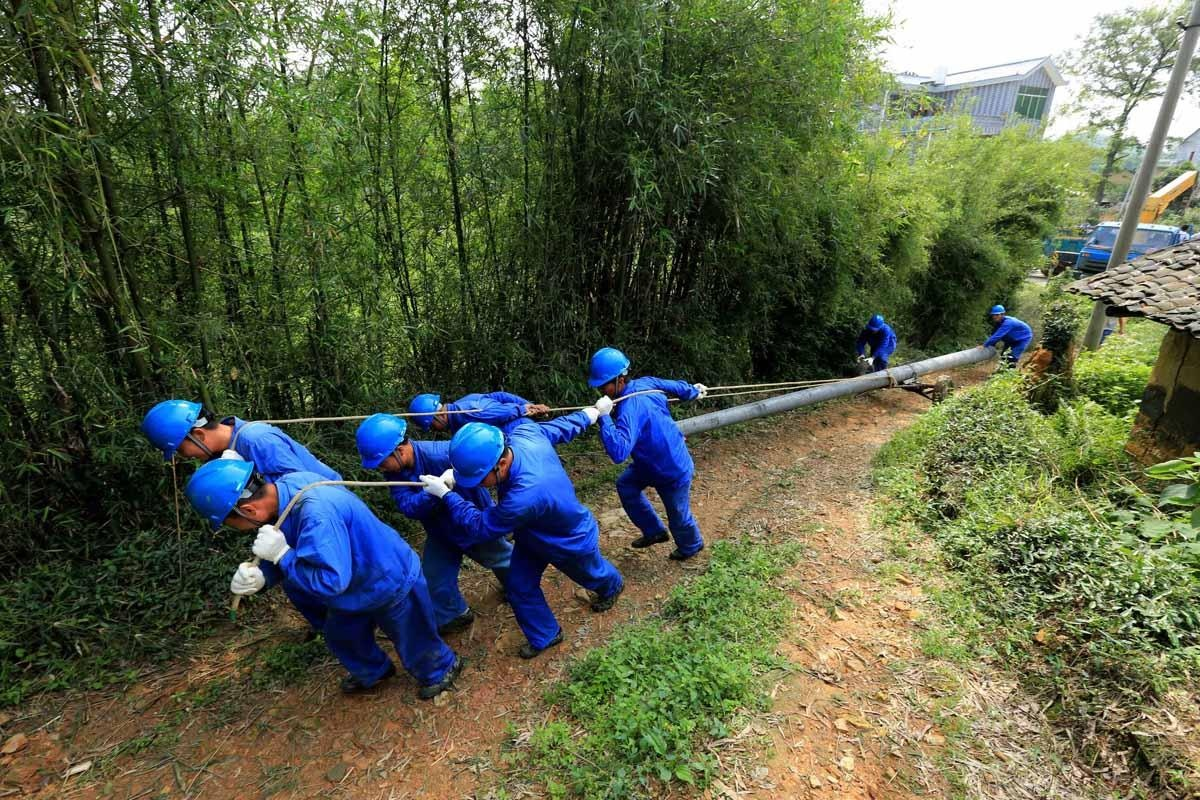blue: (184, 456, 273, 534), (140, 395, 224, 462), (448, 419, 512, 493), (354, 411, 415, 477), (587, 344, 631, 398), (410, 390, 452, 434), (867, 313, 885, 335), (988, 303, 1005, 322)
